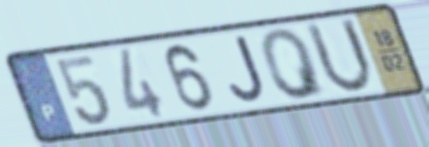4: (117, 45, 167, 122)
5: (51, 52, 113, 127)
6: (162, 40, 217, 114)
J: (226, 33, 268, 106)
Q: (257, 25, 332, 102)
U: (301, 15, 377, 97)
